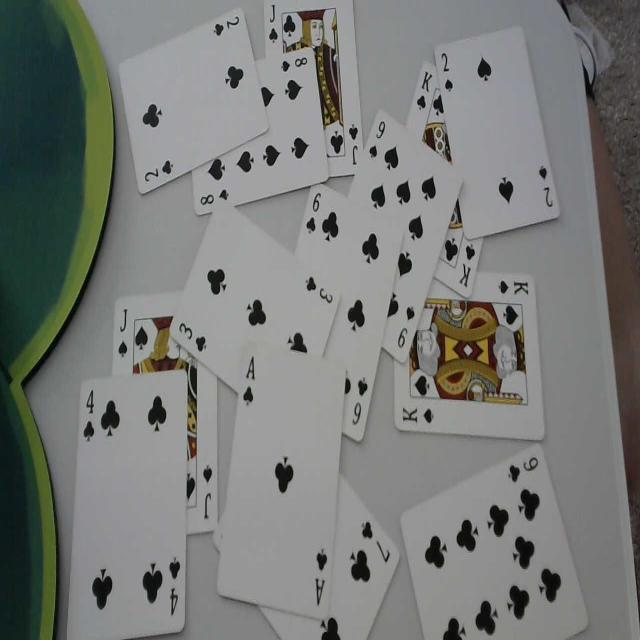2C: (144, 156, 176, 185), (212, 13, 240, 38)
2S: (537, 161, 555, 209), (440, 49, 455, 95)
3C: (177, 318, 209, 354), (304, 274, 334, 304)
4C: (168, 555, 180, 616), (82, 388, 95, 443)
6C: (351, 373, 371, 426), (304, 188, 322, 236)
7C: (359, 518, 392, 564)
8S: (278, 54, 308, 75)
9C: (507, 452, 540, 482)
9S: (396, 304, 418, 351), (368, 118, 386, 162)
AC: (312, 547, 328, 607), (242, 353, 258, 408)
JC: (267, 1, 279, 46), (349, 122, 359, 170)
JS: (201, 461, 213, 523), (117, 306, 129, 360)
KC: (415, 67, 433, 113), (458, 241, 476, 287)
KS: (402, 404, 436, 425), (498, 277, 530, 295)
